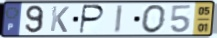5: (170, 4, 193, 34)
9: (24, 4, 46, 35)
I: (113, 4, 125, 34)
K: (49, 5, 71, 34)
O: (140, 4, 168, 35)
P: (78, 4, 107, 36)
